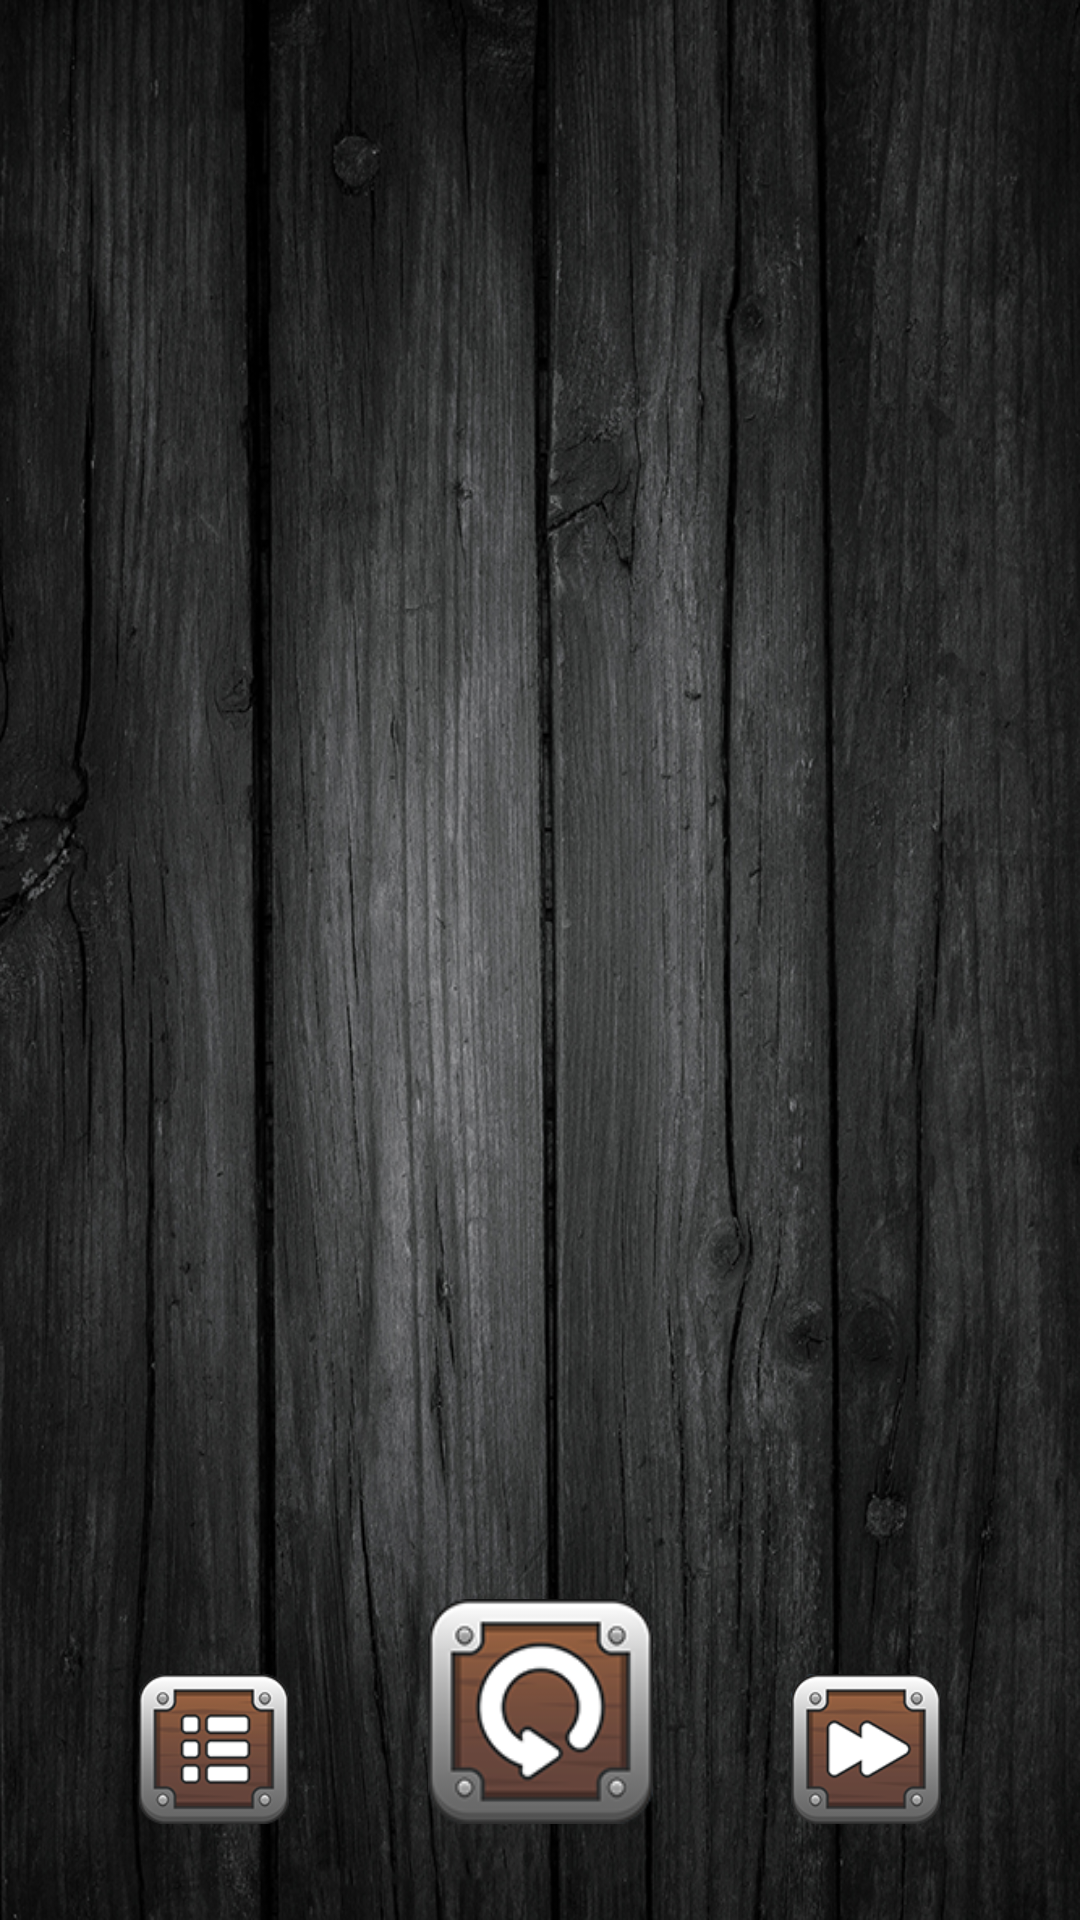

Screen size 1080px x 1920px. Icon name, then its box in pixels as region(x1, y1, x2, y2):
menu: region(140, 1675, 288, 1824)
next: region(791, 1674, 940, 1823)
reload: region(428, 1599, 651, 1821)
